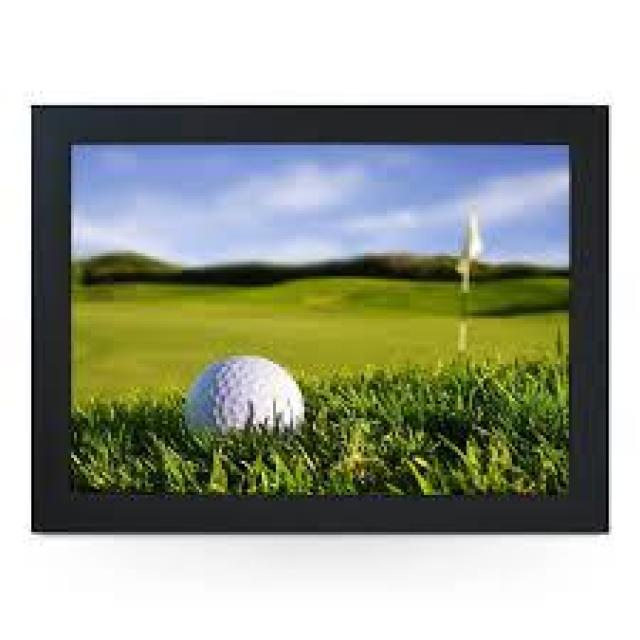ball: (178, 348, 324, 462)
